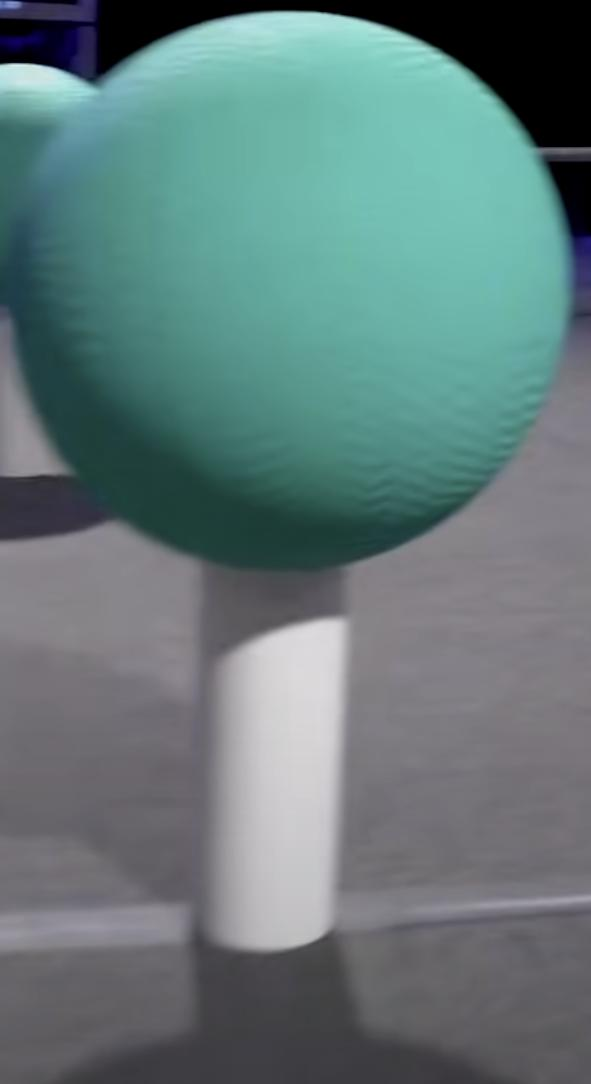algae: (10, 12, 566, 567), (0, 63, 95, 300)
coral: (197, 569, 349, 951)
